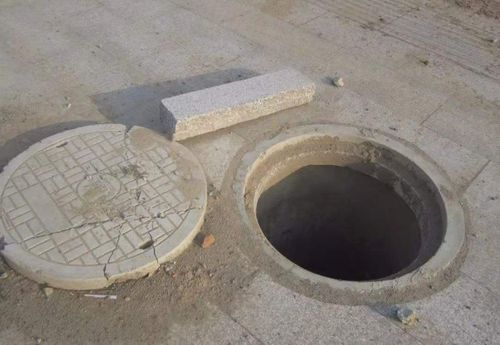uncovered: (4, 115, 469, 297)
